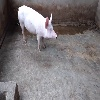heo: (15, 3, 59, 53)
